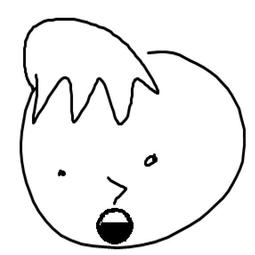open_mouth: (93, 206, 135, 246)
pointy_nose: (104, 173, 130, 206)
small_eye: (138, 151, 165, 170), (56, 164, 69, 180)
